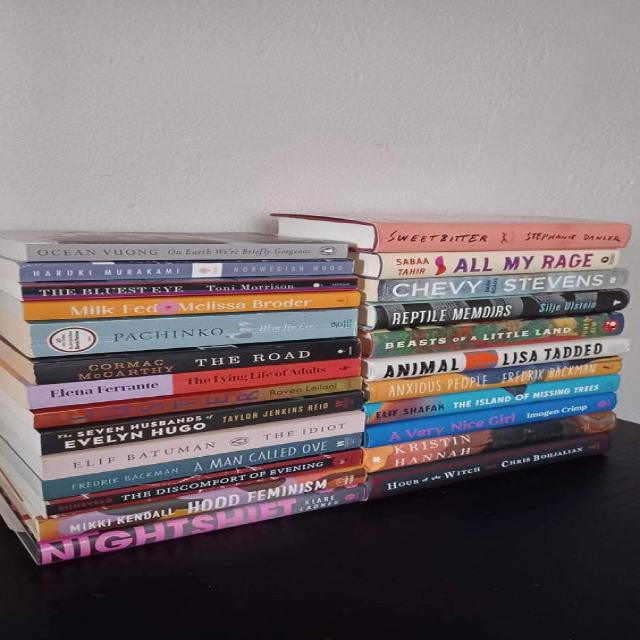book: (40, 483, 366, 566), (40, 467, 366, 543), (42, 430, 362, 500), (41, 412, 365, 480), (49, 448, 362, 515), (37, 391, 363, 455), (33, 377, 361, 429), (25, 358, 359, 409), (365, 431, 609, 499), (27, 338, 359, 385), (362, 412, 615, 473), (33, 311, 358, 357), (363, 394, 615, 447), (363, 335, 629, 381), (365, 375, 618, 421), (371, 313, 623, 358), (367, 356, 620, 400), (360, 288, 629, 329), (23, 290, 361, 321), (363, 269, 628, 301), (19, 259, 353, 284), (355, 249, 620, 279), (23, 278, 357, 301), (374, 225, 627, 253), (18, 243, 348, 262)
